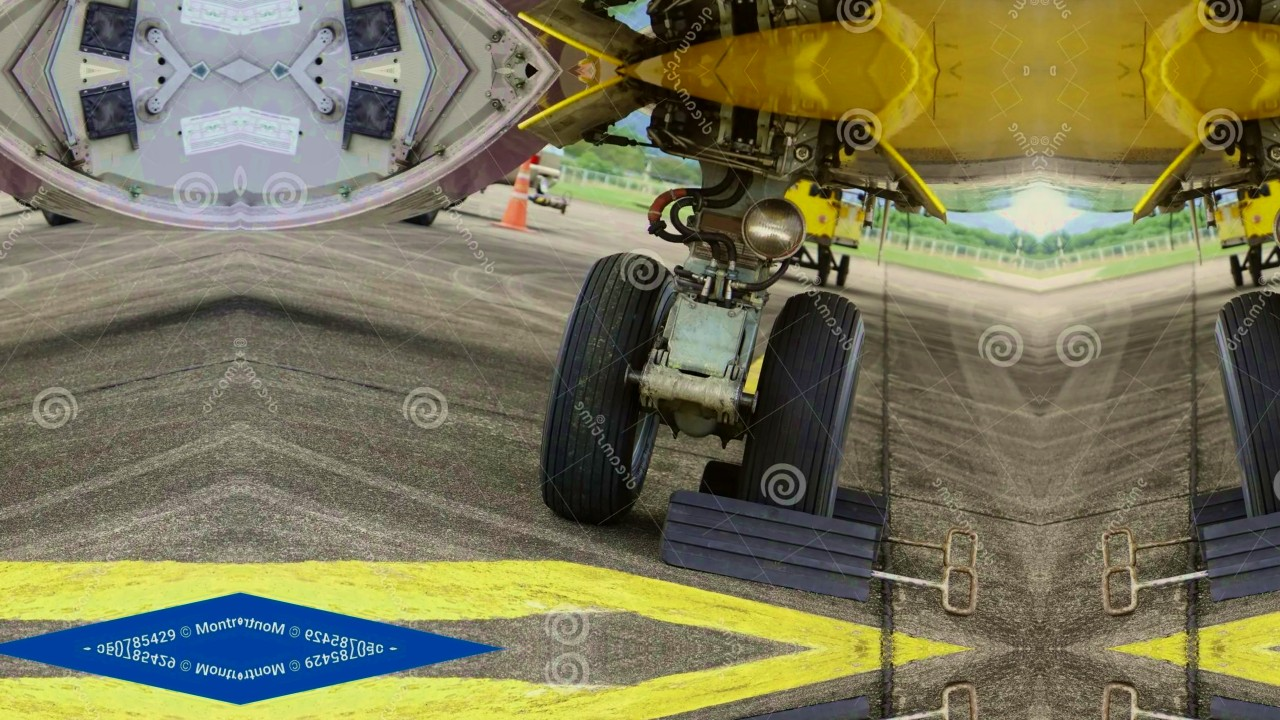chock: (652, 484, 885, 604), (695, 453, 899, 533), (1195, 484, 1280, 604), (1181, 453, 1280, 533), (652, 694, 885, 720)
wheel: (529, 244, 696, 529), (731, 279, 876, 517), (1204, 279, 1280, 517)
